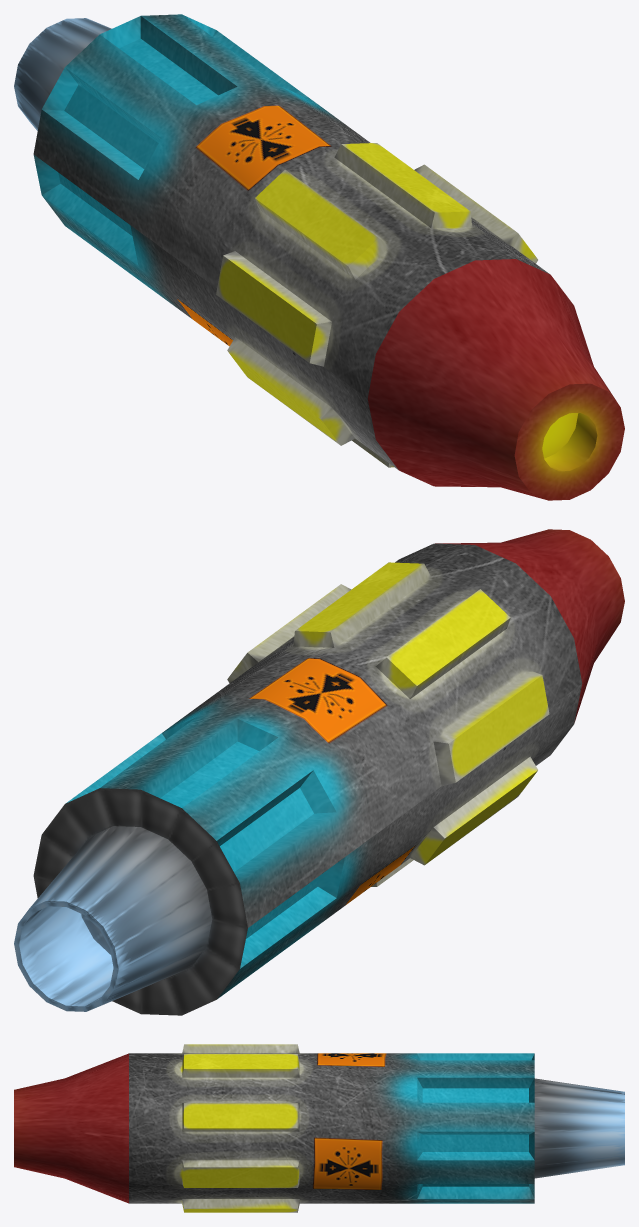
The model's file is torpedo.FBX.
3 views of the same model, one above another, from view 1: azimuth 30°, elevation 25°; view 2: azimuth 150°, elevation 25°; view 3: azimuth 270°, elevation 25° (orthographic). The views are drawn at different scales.
Visible parts, largest first — view 1: Torpedo; view 2: Torpedo; view 3: Torpedo.
Boxes of the visible parts, left/top/right/bottom form: Torpedo: left=14, top=14, right=624, bottom=500; Torpedo: left=14, top=529, right=624, bottom=1015; Torpedo: left=14, top=1044, right=624, bottom=1212.
Size of the model in its own units: 8.94 by 8.94 by 32.51.
